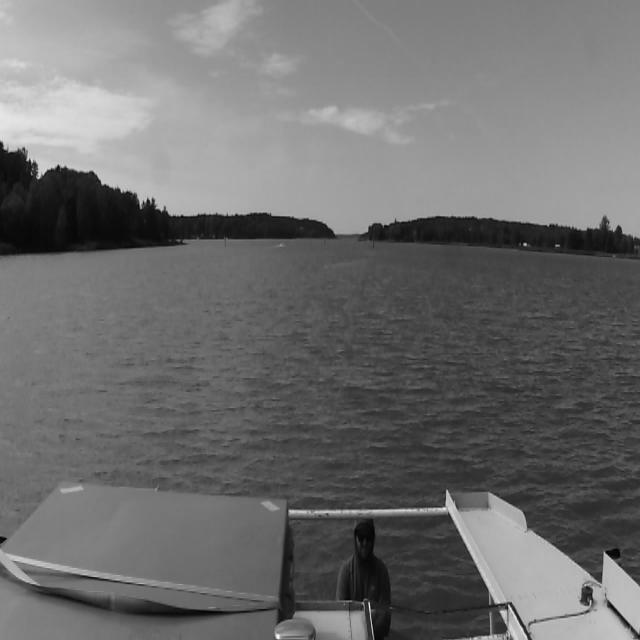buoy: (222, 233, 226, 249)
